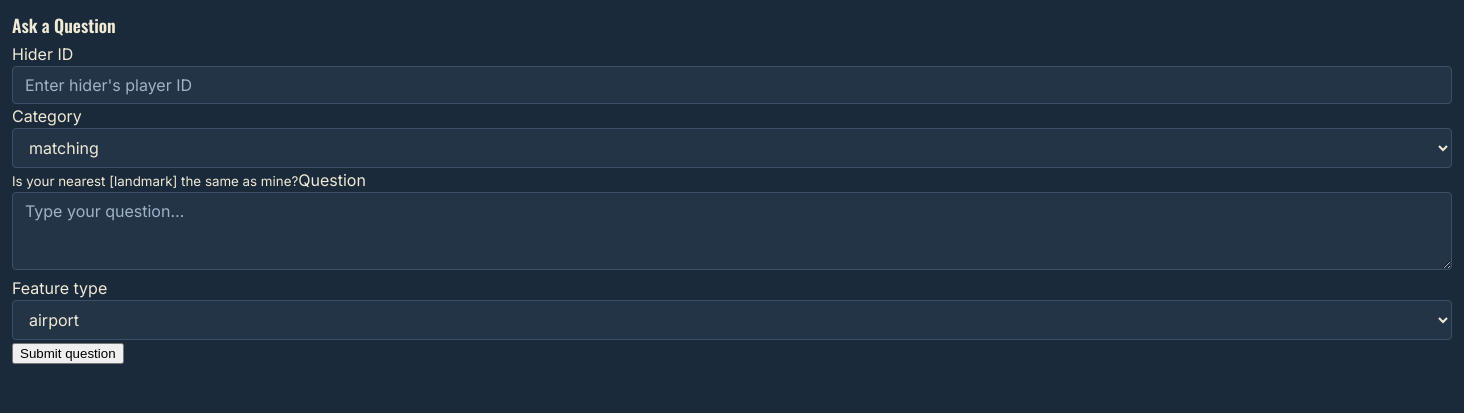
Scenario: QuestionPanel › shows error when submitQuestion rejects
Type "p2" into the field labelled "Hider ID" at {"x": 732, "y": 85}, box left=12, top=66, right=1452, bottom=104
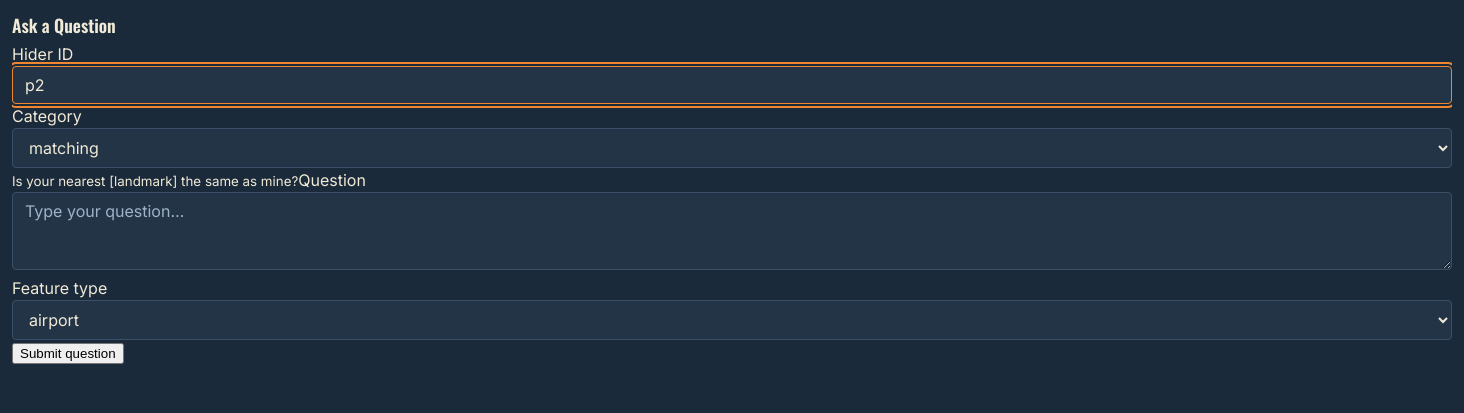
Type "Hello?" into the text box labelled "Question" at {"x": 732, "y": 231}, box left=12, top=192, right=1452, bottom=270
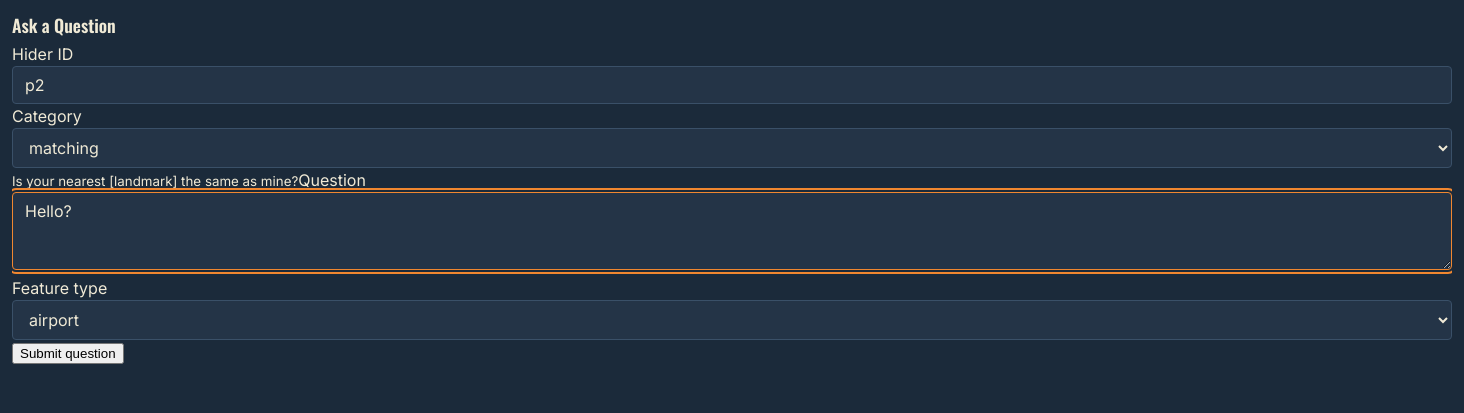
Click the button "Submit question" at {"x": 68, "y": 354}, box left=12, top=343, right=124, bottom=364
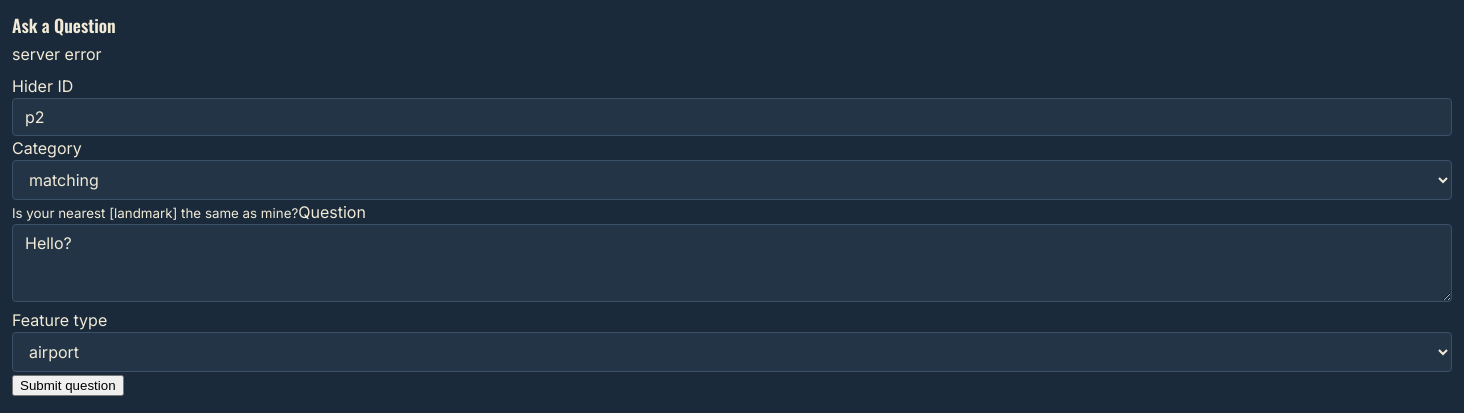
Check: the message reads "server error", box left=12, top=44, right=102, bottom=64
